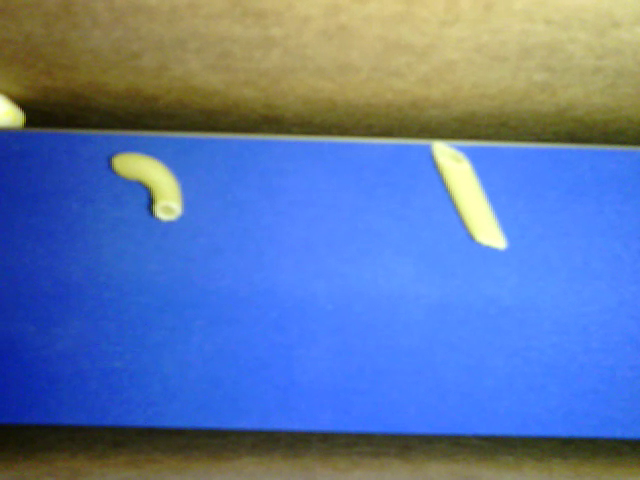elbow: (113, 149, 182, 222)
penne: (431, 141, 507, 249)
